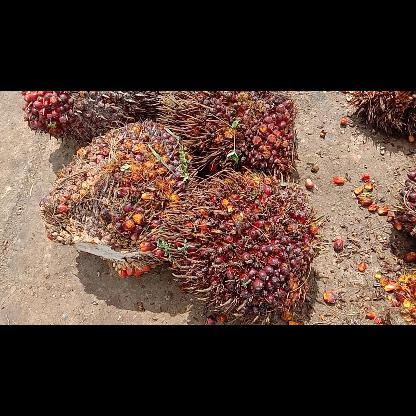TBS masak: (160, 168, 320, 322), (40, 119, 194, 276), (157, 91, 294, 173), (20, 90, 156, 142)
